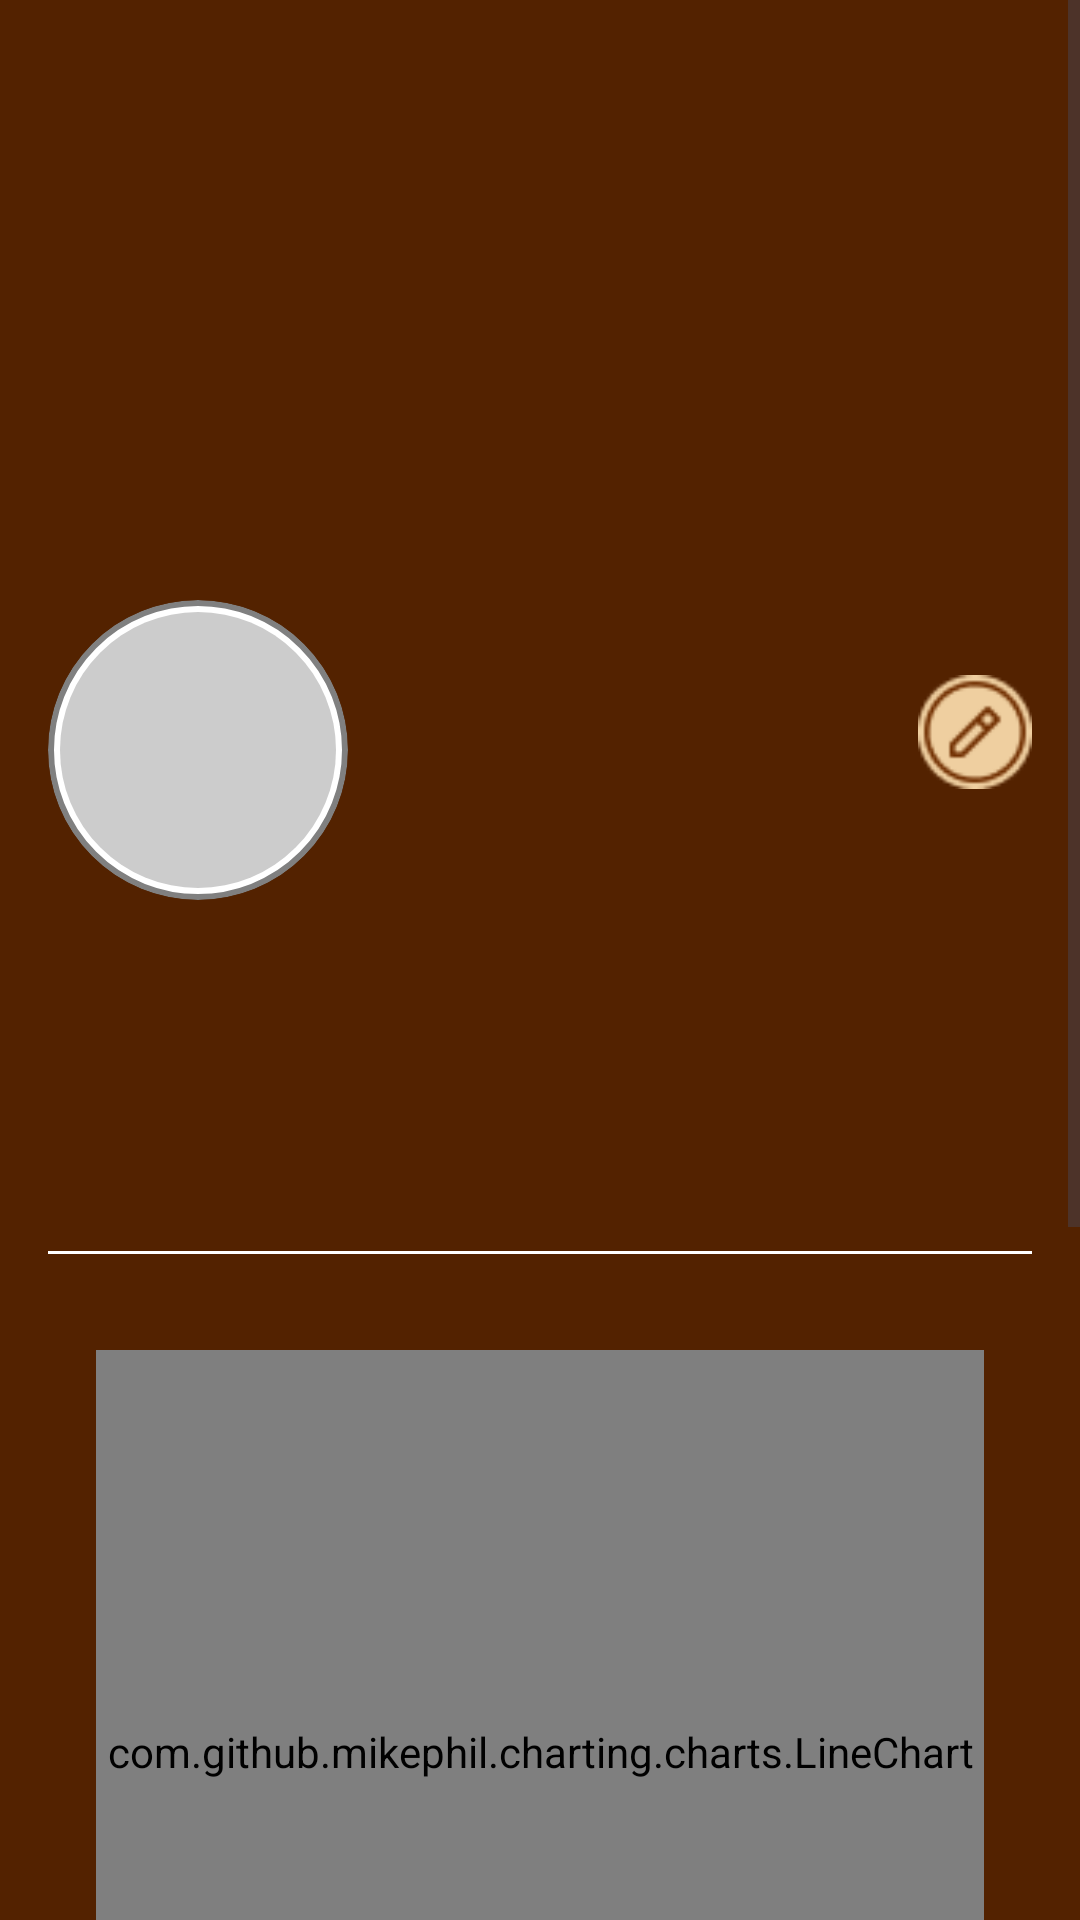

Screen size 1080*1920. Icon name, then its box in pixels as [left=x1, top=y1, right=x2, bottom=y2]:
Edit Profile: [left=918, top=675, right=1032, bottom=789]
